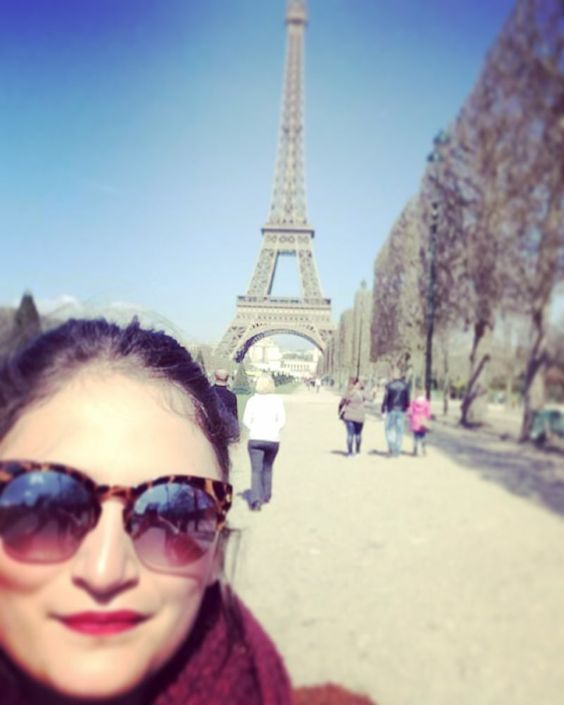sunglasses: (1, 471, 215, 568)
